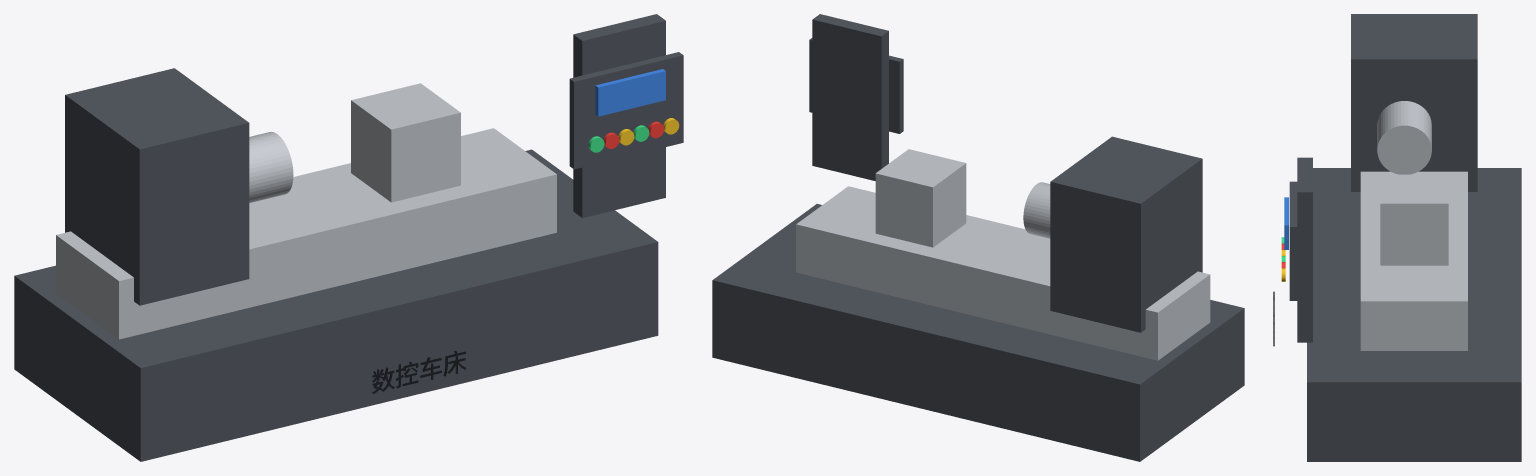
The model's file is asset_cnc_lathe.glb.
3 renders of one model, left to right at view 1: azimuth 30°, elevation 25°; view 2: azimuth 150°, elevation 25°; view 3: azimuth 270°, elevation 25°, orthographic. The views are drawn at different scales.
Parts seen in each view (by area): view 1: machine_base, bed, headstock, tool_post, control_box, lathe_panel, spindle, lathe_screen, asset_label; view 2: machine_base, bed, headstock, control_box, tool_post, lathe_panel, spindle; view 3: machine_base, headstock, bed, tool_post, spindle, control_box, lathe_panel, lathe_screen.
Boxes of the visible parts, <box> form: machine_base: <box>14,149,658,461</box>; bed: <box>56,128,556,339</box>; headstock: <box>65,68,249,305</box>; tool_post: <box>351,83,460,202</box>; control_box: <box>573,14,665,217</box>; lathe_panel: <box>569,52,683,169</box>; spindle: <box>249,131,293,202</box>; lathe_screen: <box>595,69,665,116</box>; asset_label: <box>372,350,465,393</box>; machine_base: <box>712,204,1244,461</box>; bed: <box>796,186,1210,360</box>; headstock: <box>1050,136,1202,332</box>; control_box: <box>812,14,888,180</box>; tool_post: <box>875,149,966,247</box>; lathe_panel: <box>809,38,903,133</box>; spindle: <box>1023,182,1050,238</box>; machine_base: <box>1307,168,1521,461</box>; headstock: <box>1351,14,1477,191</box>; bed: <box>1360,171,1467,350</box>; tool_post: <box>1380,174,1448,265</box>; spindle: <box>1377,101,1431,174</box>; control_box: <box>1297,157,1312,342</box>; lathe_panel: <box>1289,181,1297,300</box>; lathe_screen: <box>1284,197,1288,249</box>.
Bounding box in the file's own units: 2.67 × 1.53 × 1.27.
